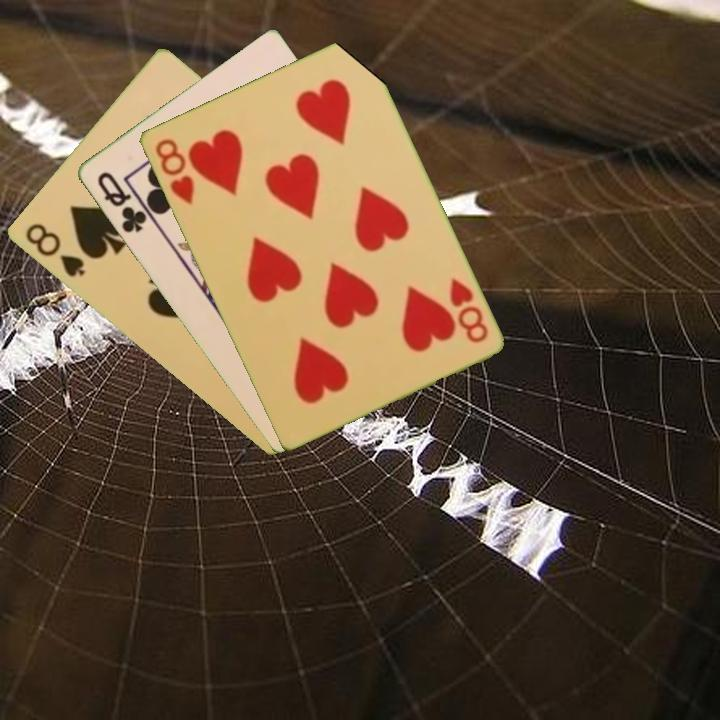8h: (151, 134, 197, 208), (445, 273, 491, 346)
8s: (21, 219, 88, 280)
Qc: (93, 168, 150, 236)
